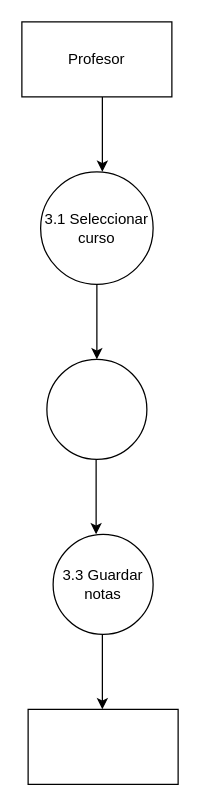
The diagram is 200 pixels wide and 806 high, and some of its shapes have lost their labels. The centre of each missing label's shape, as x and y in pixels:
3.2 Introducir notas: pixel 96 408
Almacén de notas: pixel 102 746
